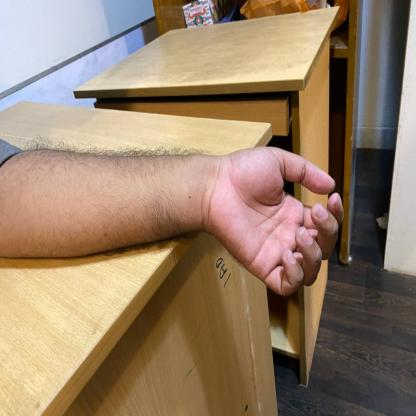hand: (1, 133, 348, 299)
